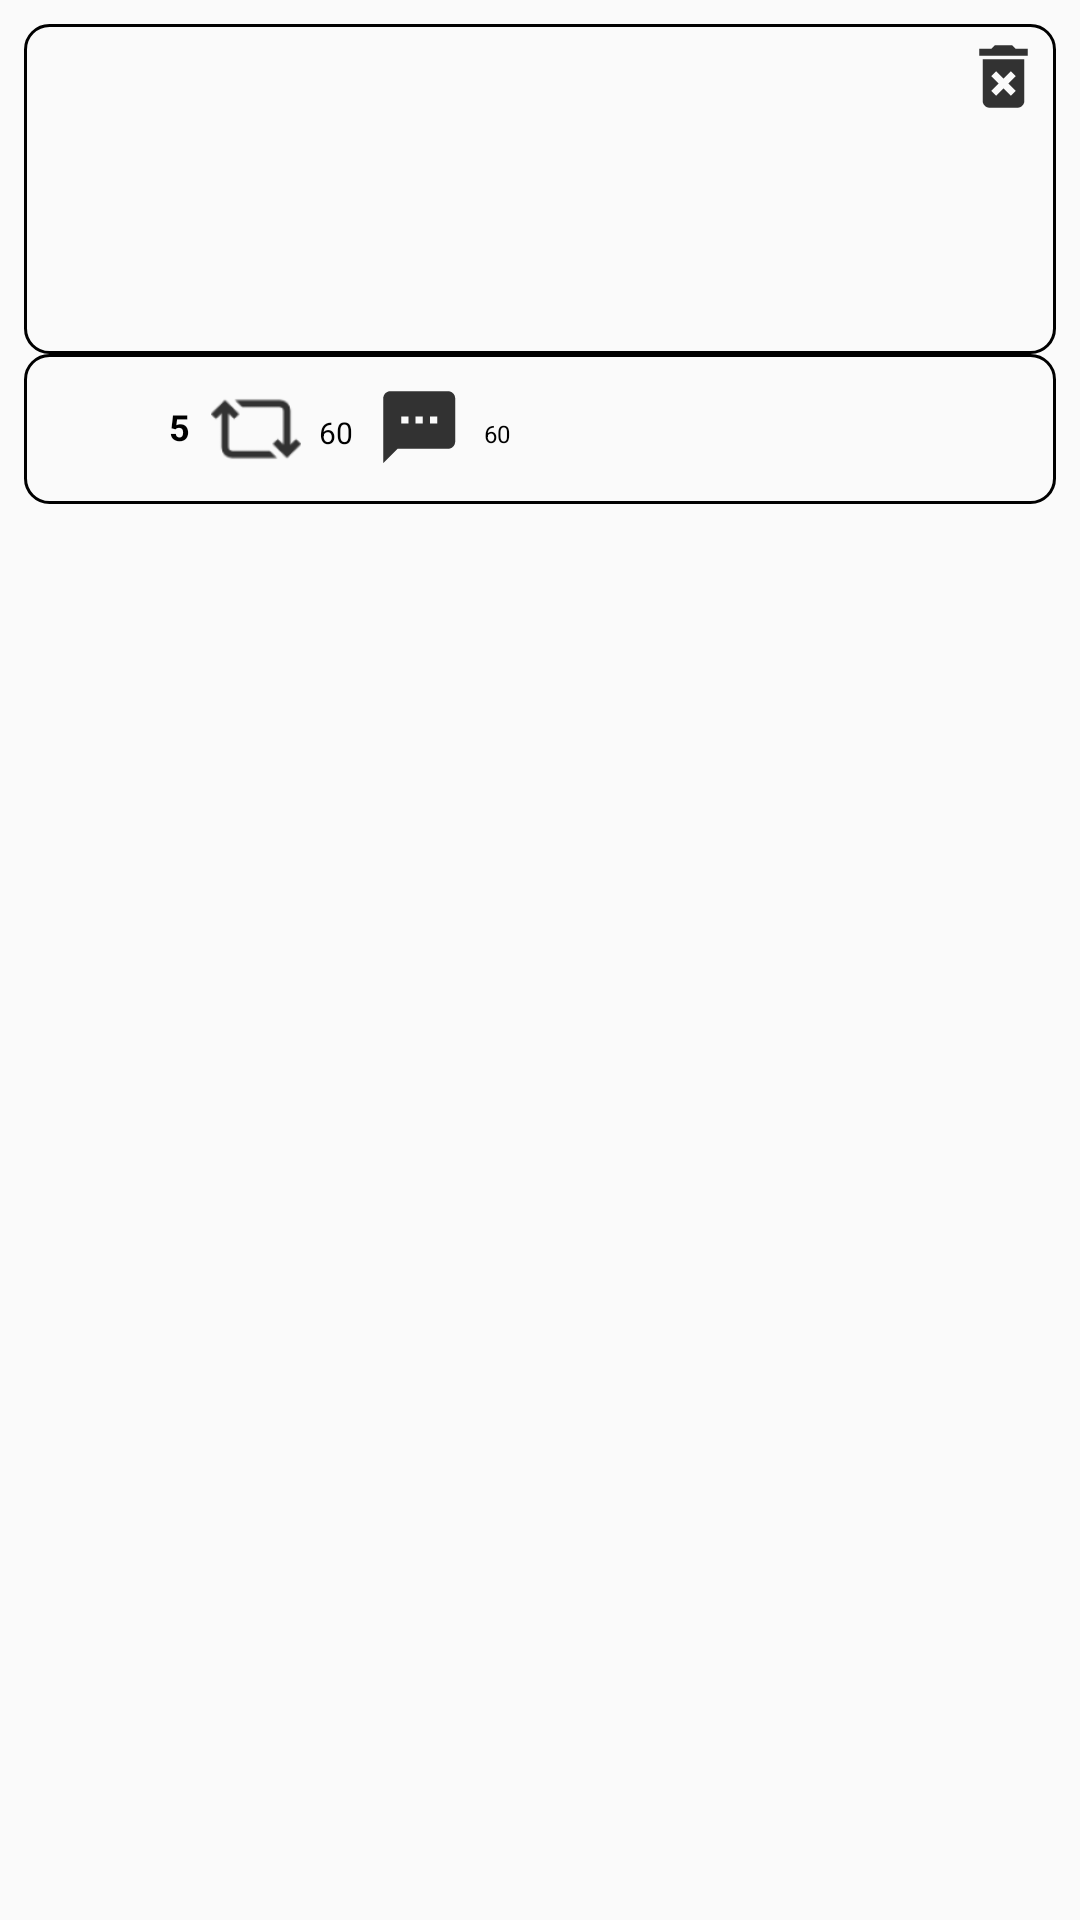

Where icons sit on this 1080 x 1920 app screen, as BBox(x1, y1, x2, y2):
delete: BBox(979, 45, 1028, 108)
message: BBox(383, 391, 456, 463)
